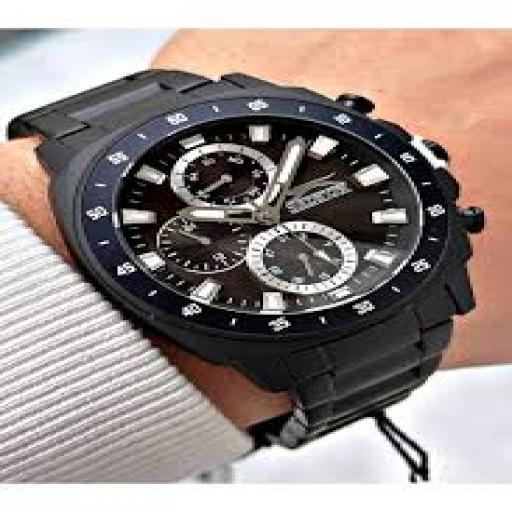KolSaati: (3, 66, 504, 448)
